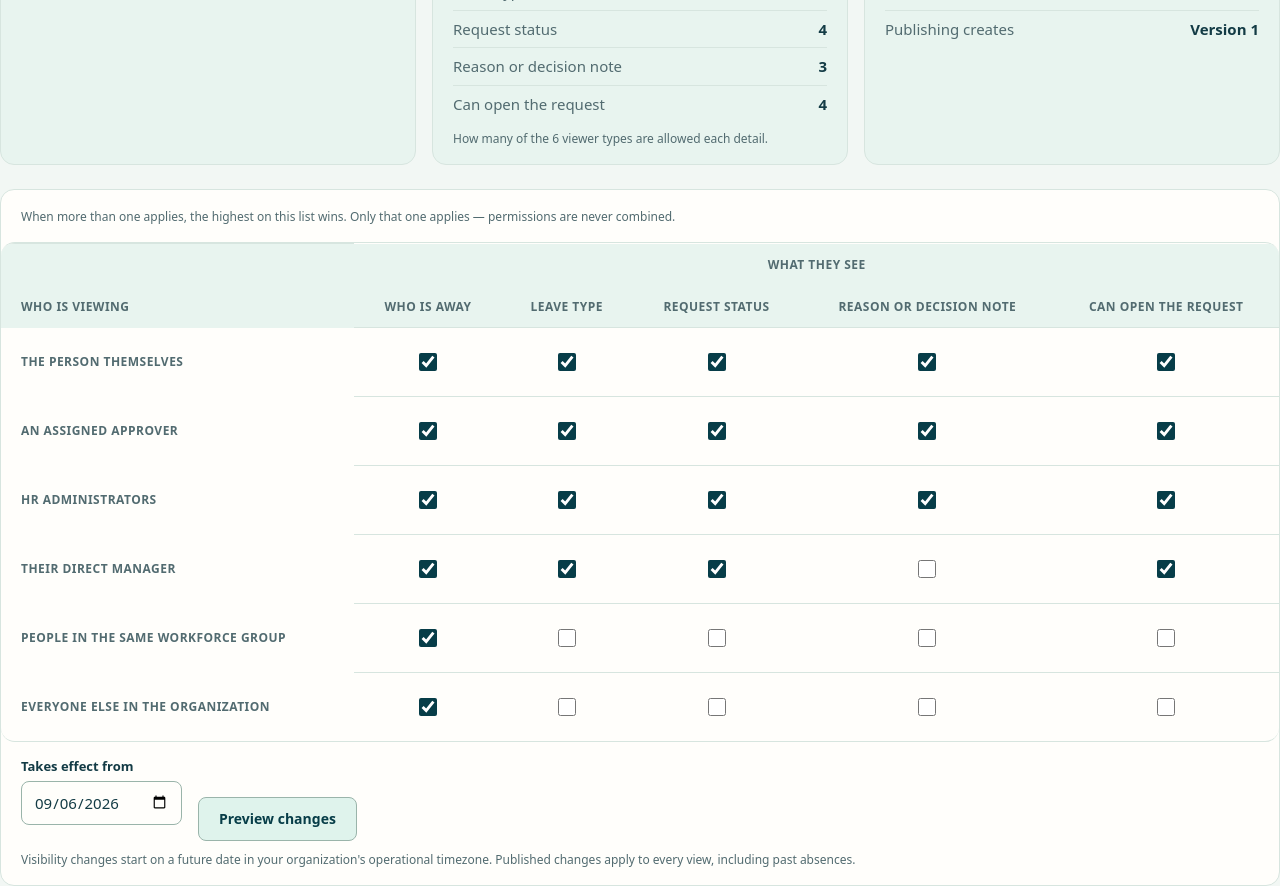
Test case: CalendarPrivacySettingsPage › cannot publish until a preview has resolved
(page scrolled)
Expected: the table with test id "calendar-privacy-matrix" is shown, [1,243,1279,741]
Click the button with test id "calendar-privacy-preview".
click(277, 819)  # box [198,797,357,841]
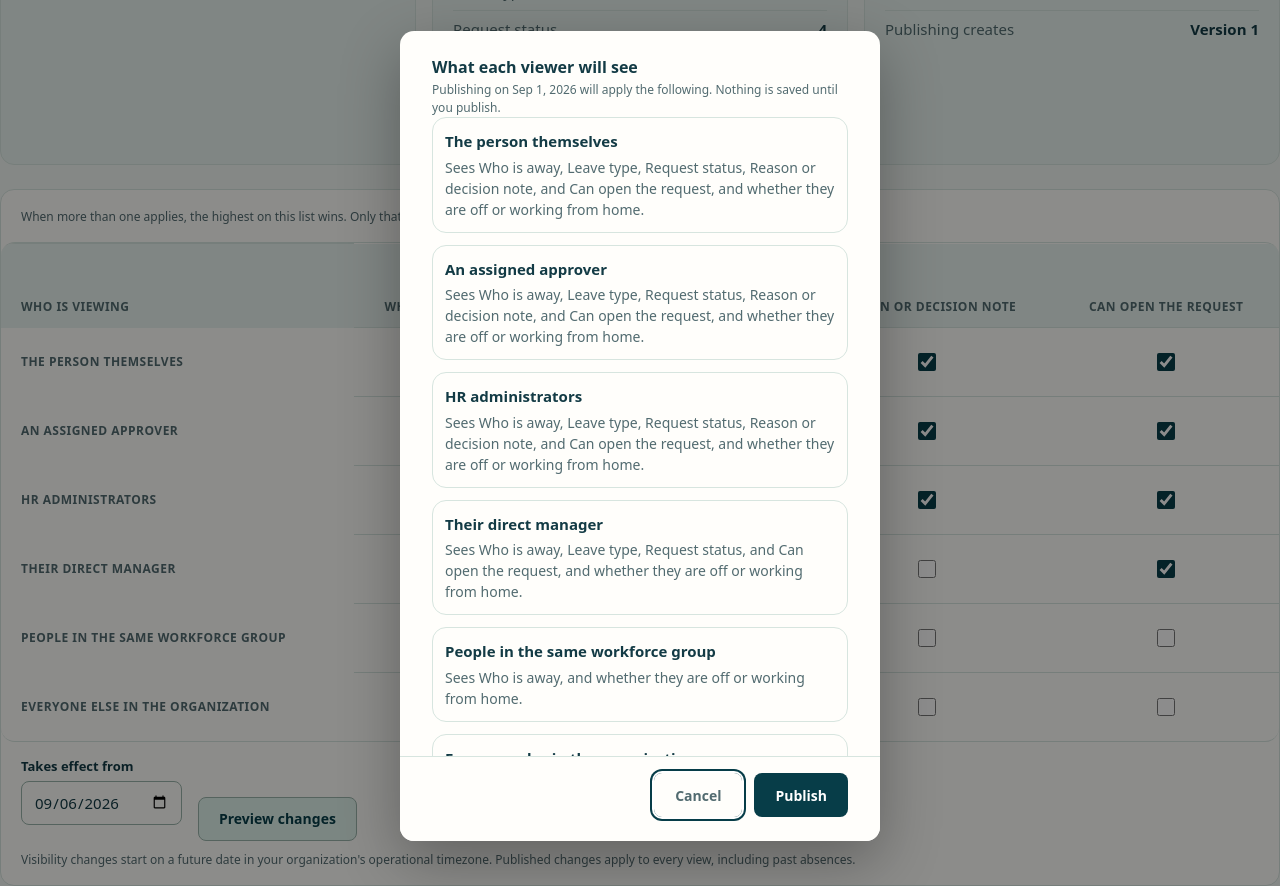
Expected: the button with test id "calendar-privacy-publish" showing "Publish" is enabled, [754,773,848,817]
